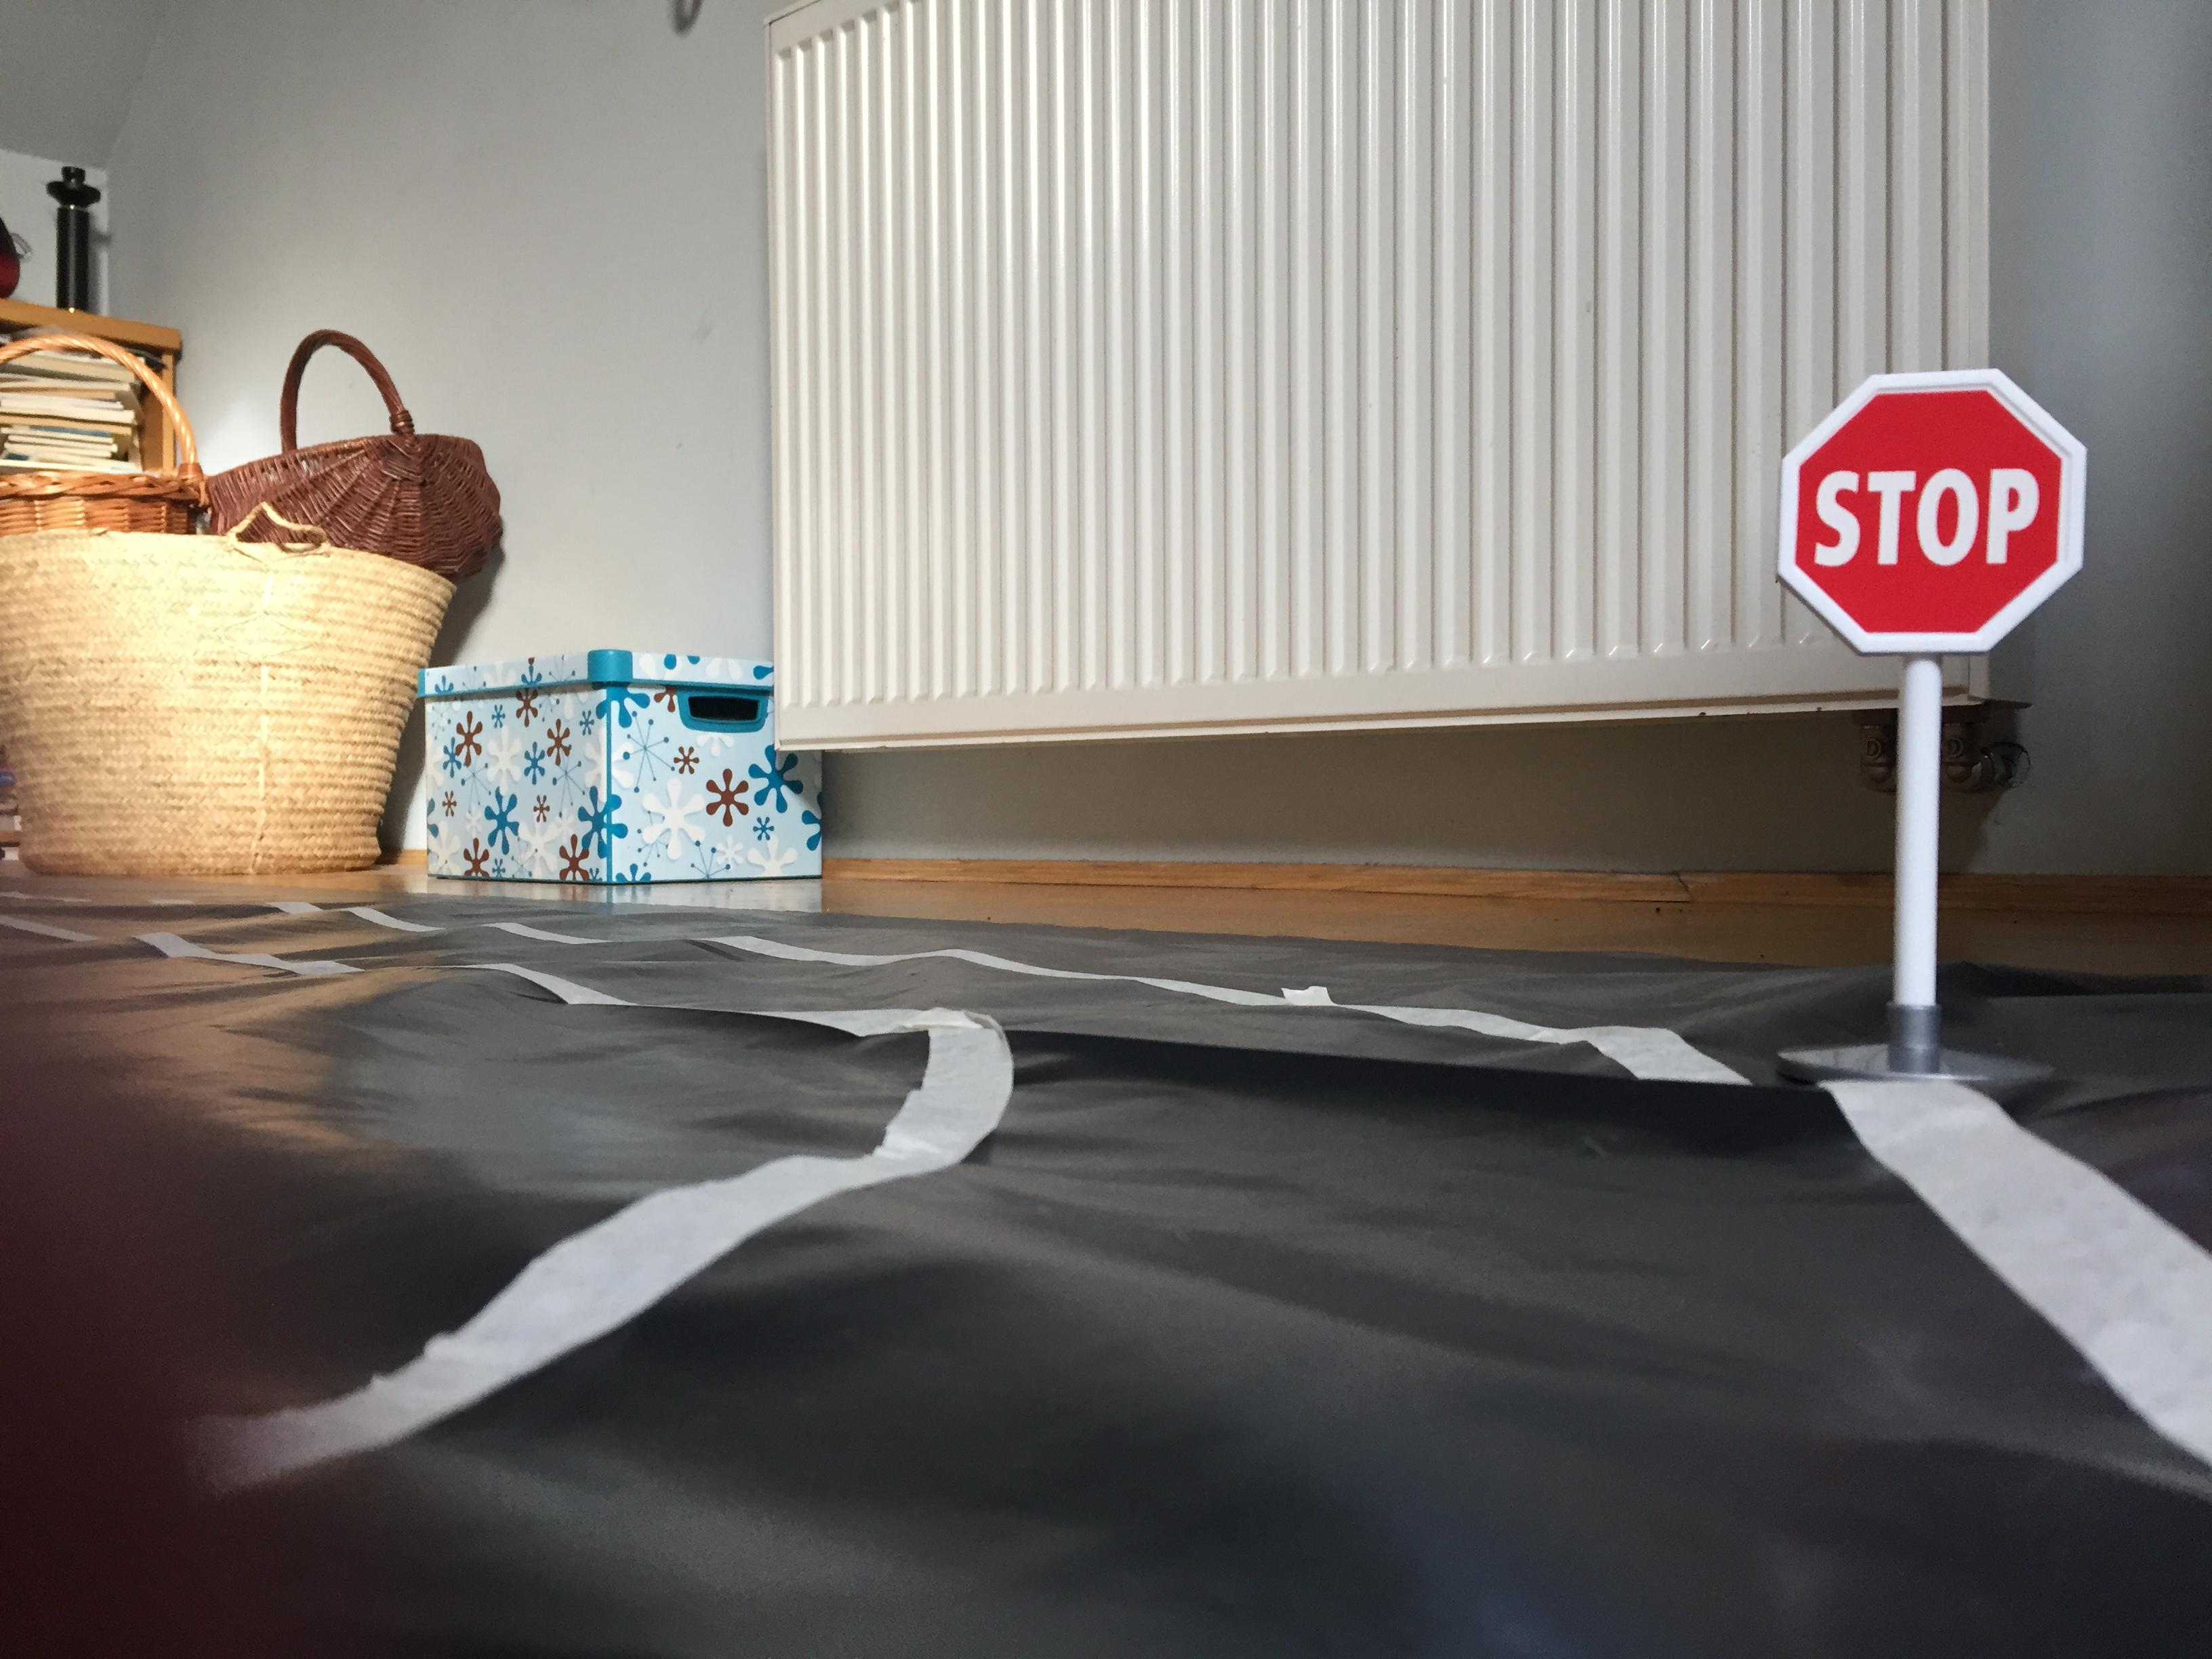stop: (1768, 359, 2095, 667)
